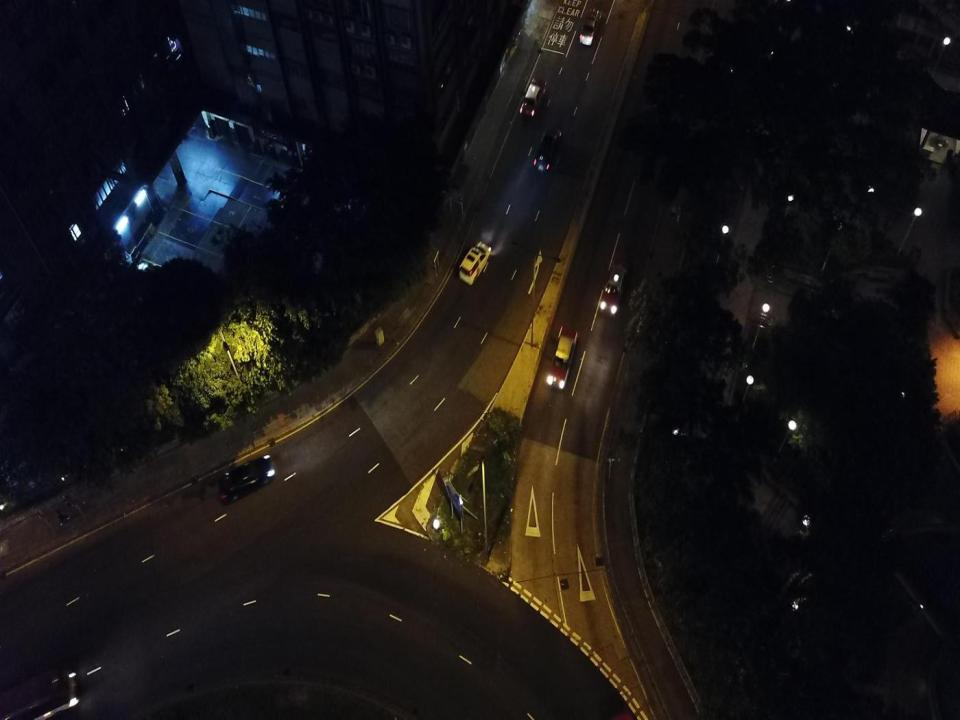car: (218, 454, 275, 504), (546, 326, 578, 389), (598, 263, 628, 319), (532, 128, 562, 172), (519, 77, 547, 117), (579, 16, 600, 45)
van: (0, 668, 77, 719), (460, 242, 492, 285)
